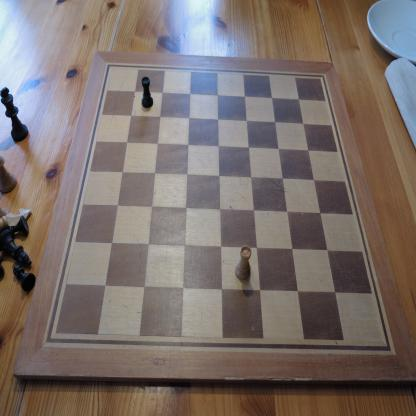black-bishop: (0, 228, 32, 266)
black-king: (0, 85, 29, 142)
black-pawn: (12, 262, 36, 292)
black-rook: (140, 76, 154, 108)
white-bishop: (0, 206, 33, 229)
white-rook: (234, 244, 252, 280)
